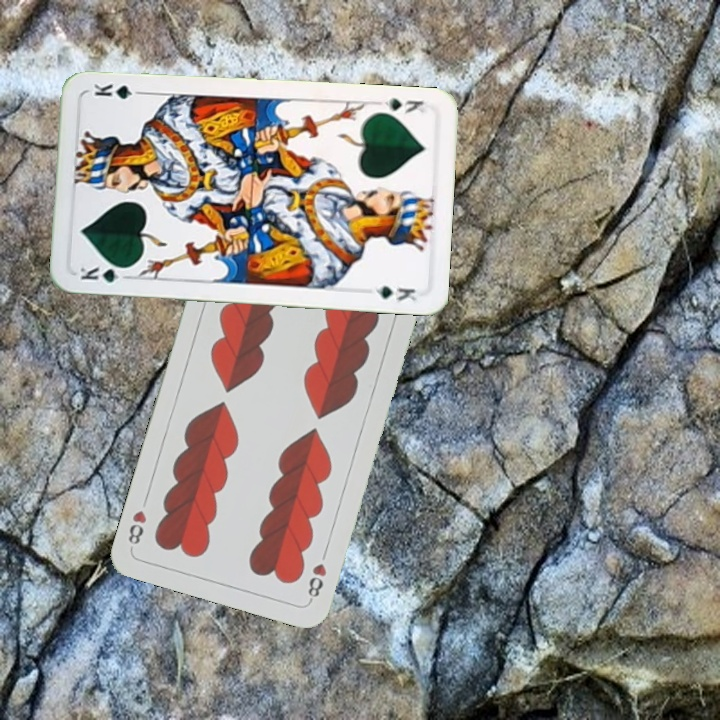GK: (76, 263, 133, 286), (380, 94, 430, 116)
H8: (303, 559, 329, 604)
